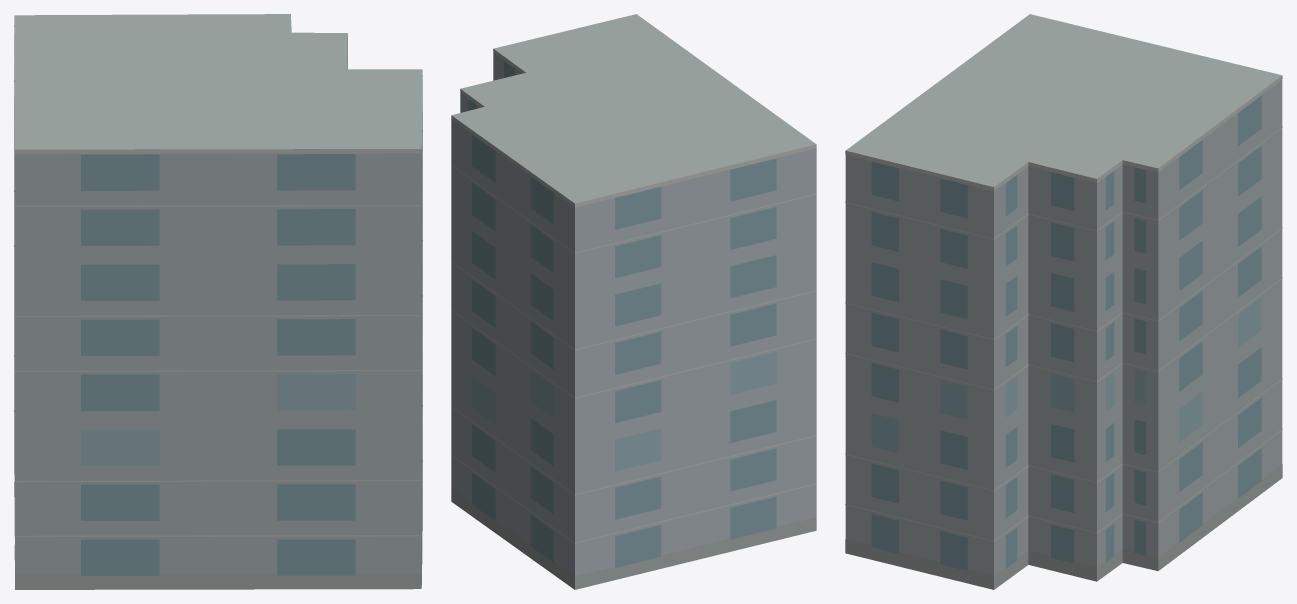
Rendered from survey-upis-32742470.glb.
3 renders of one model, left to right at view 1: azimuth 30°, elevation 25°; view 2: azimuth 150°, elevation 25°; view 3: azimuth 270°, elevation 25°, orthographic. The views are drawn at different scales.
Parts seen in each view (by area): view 1: survey-upis-32742470.tmp; view 2: survey-upis-32742470.tmp; view 3: survey-upis-32742470.tmp.
Boxes of the visible parts, box(x1,y1,x2,y2) form: survey-upis-32742470.tmp: box(14, 14, 422, 589); survey-upis-32742470.tmp: box(451, 14, 816, 589); survey-upis-32742470.tmp: box(845, 14, 1282, 589).
Size of the model in its own units: 21.79 by 23.6 by 23.23.
